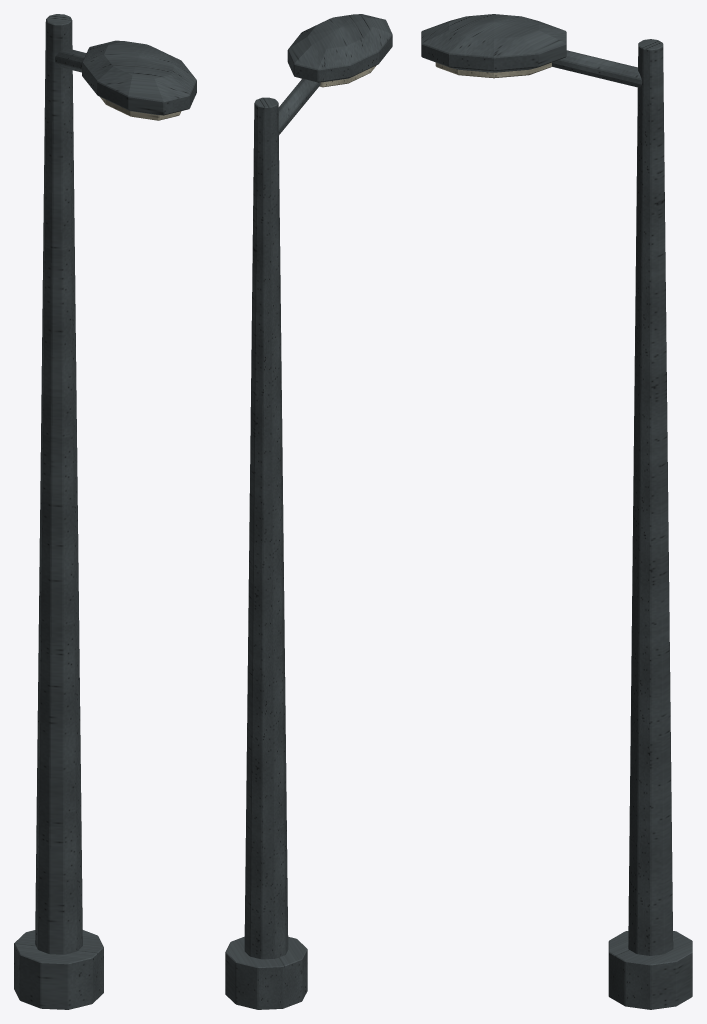
The model's file is PROP-AFCACF124A63_lod1.glb.
The picture shows the model from 3 angles, left to right: view 1: azimuth 30°, elevation 25°; view 2: azimuth 150°, elevation 25°; view 3: azimuth 270°, elevation 25°; orthographic projection. The views are drawn at different scales.
Parts seen in each view (by area): view 1: pole.004, lamp_head.004, pole_base.004, lamp_arm.004, light_diffuser.004; view 2: pole.004, lamp_head.004, pole_base.004, lamp_arm.004; view 3: pole.004, lamp_head.004, pole_base.004, lamp_arm.004, light_diffuser.004.
Boxes of the visible parts, x1=… form: pole.004: x1=35, y1=14, x2=82, y2=954; lamp_head.004: x1=82, y1=40, x2=196, y2=115; pole_base.004: x1=14, y1=930, x2=103, y2=1009; lamp_arm.004: x1=55, y1=48, x2=86, y2=72; light_diffuser.004: x1=100, y1=97, x2=181, y2=120; pole.004: x1=244, y1=97, x2=288, y2=959; lamp_head.004: x1=287, y1=14, x2=392, y2=82; pole_base.004: x1=225, y1=936, x2=307, y2=1009; lamp_arm.004: x1=278, y1=79, x2=320, y2=134; pole.004: x1=628, y1=39, x2=673, y2=955; lamp_head.004: x1=421, y1=14, x2=566, y2=72; pole_base.004: x1=608, y1=931, x2=692, y2=1009; lamp_arm.004: x1=552, y1=50, x2=641, y2=87; light_diffuser.004: x1=435, y1=62, x2=551, y2=78.
Size of the model in its own units: 0.4755 by 5.32 by 1.35.
Materials: 2 (2 with a texture image).
